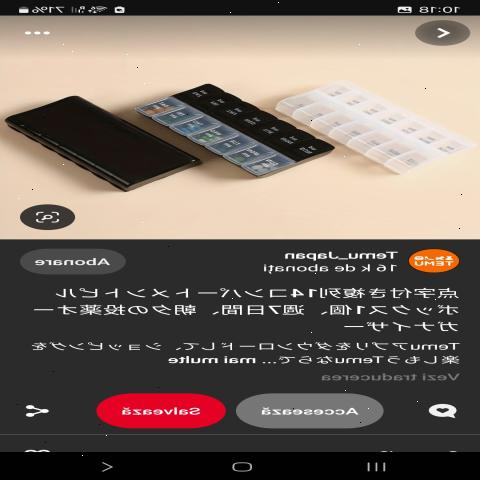PillBox: (1, 70, 196, 202), (134, 71, 347, 190)
